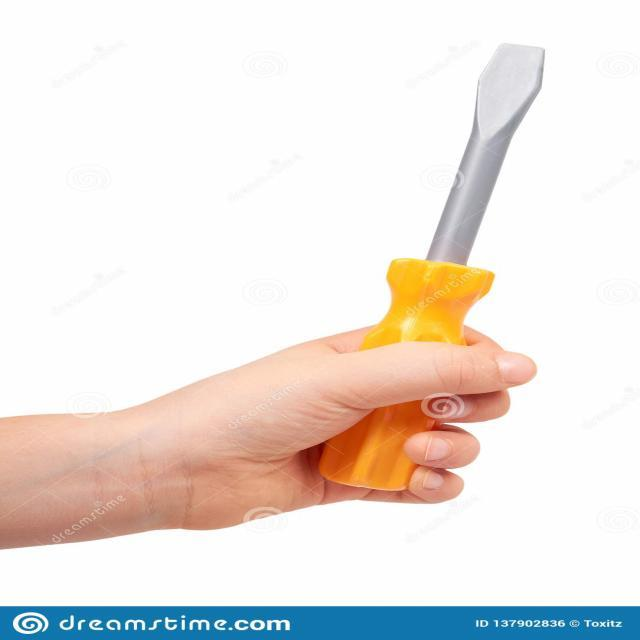screwdriver: (310, 37, 560, 494)
